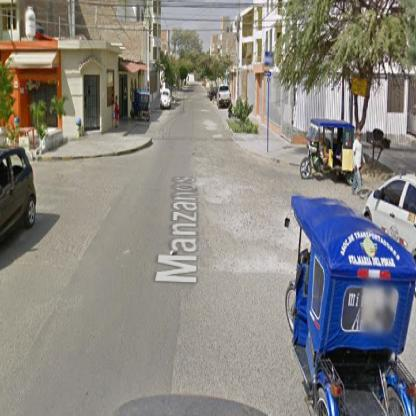Peaton: (352, 129, 367, 198), (115, 96, 120, 128)
Pista: (8, 81, 376, 402)
Vehiculo: (286, 197, 416, 415), (300, 121, 357, 188), (132, 89, 151, 121), (218, 85, 232, 110), (161, 88, 173, 111)
